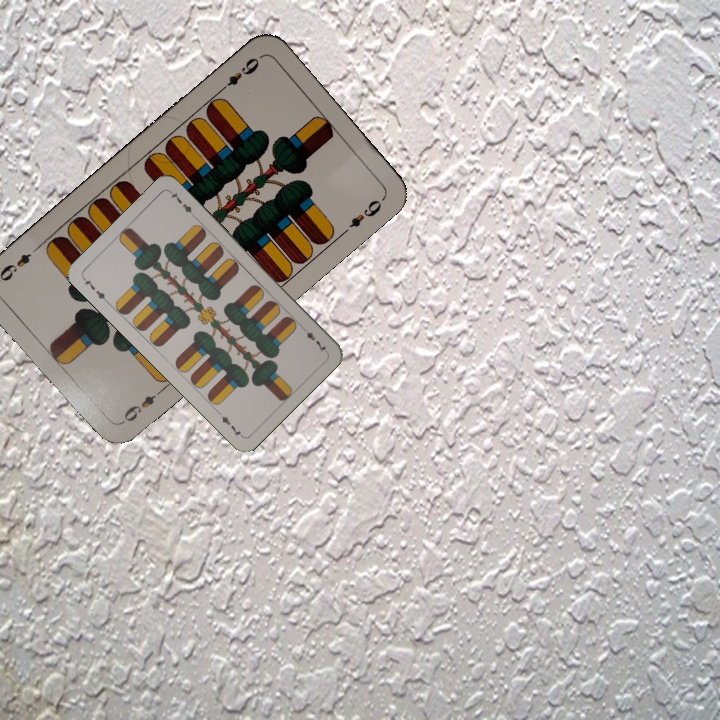E7: (297, 322, 329, 355), (79, 273, 111, 306)
E9: (117, 384, 167, 427), (215, 52, 264, 95)
